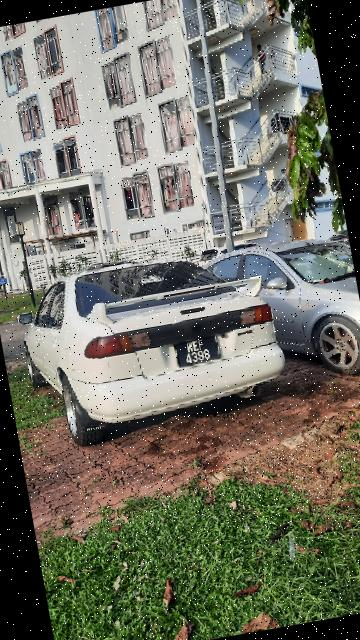License_Plate: (169, 333, 224, 372)
car: (8, 235, 292, 451), (195, 225, 360, 400)
